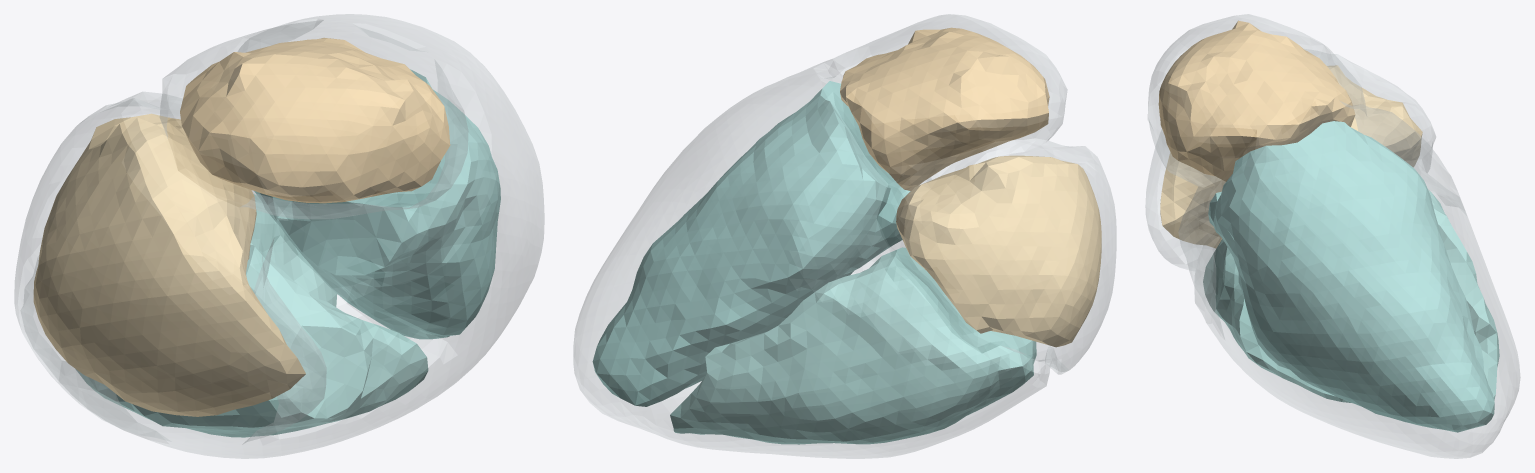
The model's file is heart-four-chamber-AV.glb.
3 views of the same model, side by side, from view 1: azimuth 30°, elevation 25°; view 2: azimuth 150°, elevation 25°; view 3: azimuth 270°, elevation 25° (orthographic). The views are drawn at different scales.
Visible parts, largest first — view 1: epicardium, right_atrium, left_atrium, left_ventricle, right_ventricle; view 2: epicardium, left_ventricle, right_ventricle, right_atrium, left_atrium; view 3: epicardium, left_ventricle, left_atrium, right_atrium, right_ventricle.
Part boxes in pixels (<box>): epicardium: <box>14,14,544,458</box>; right_atrium: <box>33,113,305,416</box>; left_atrium: <box>180,37,450,203</box>; left_ventricle: <box>254,69,500,339</box>; right_ventricle: <box>75,194,428,437</box>; epicardium: <box>573,14,1116,458</box>; left_ventricle: <box>592,81,910,406</box>; right_ventricle: <box>670,247,1036,444</box>; right_atrium: <box>896,155,1101,347</box>; left_atrium: <box>840,27,1049,190</box>; epicardium: <box>1145,14,1520,458</box>; left_ventricle: <box>1208,121,1494,432</box>; left_atrium: <box>1158,20,1355,181</box>; right_atrium: <box>1160,65,1422,248</box>; right_ventricle: <box>1203,189,1499,402</box>.
Size of the model in its own units: 154 by 121 by 122.
